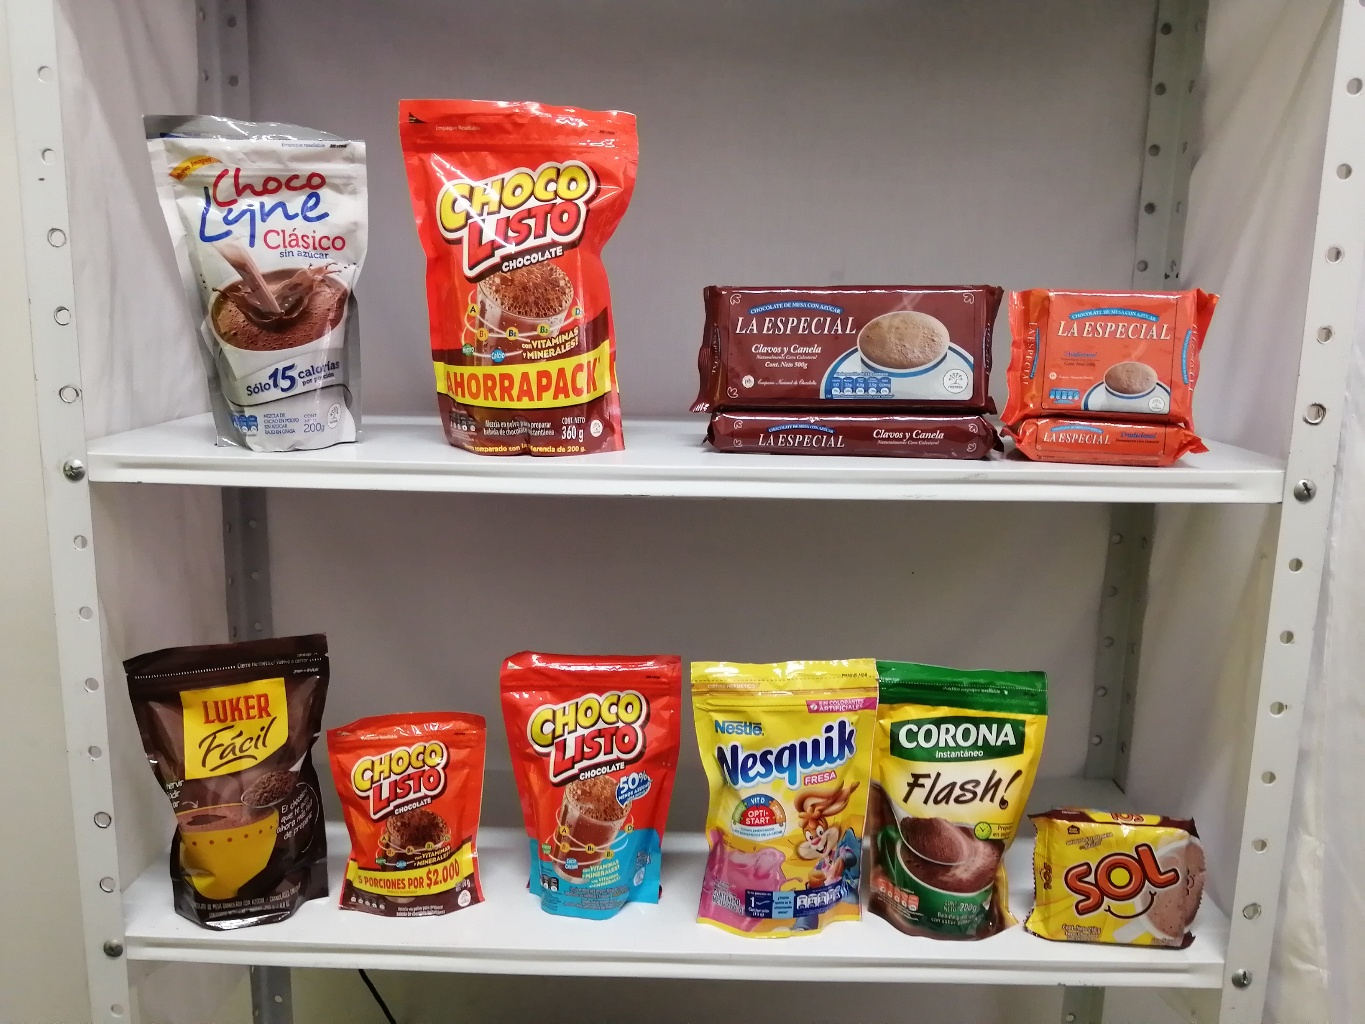COL0170103DYP36000: (388, 88, 649, 460)
COL0170104DYP20000: (489, 639, 688, 920)
COL0170305DYP20000: (680, 651, 885, 944)
